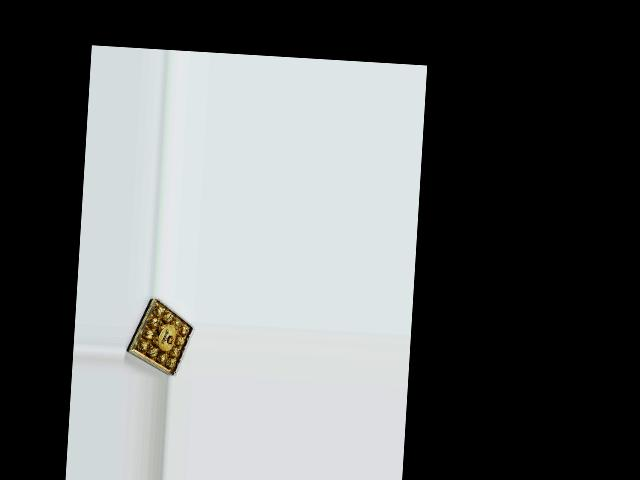chocolate: (123, 295, 196, 378)
